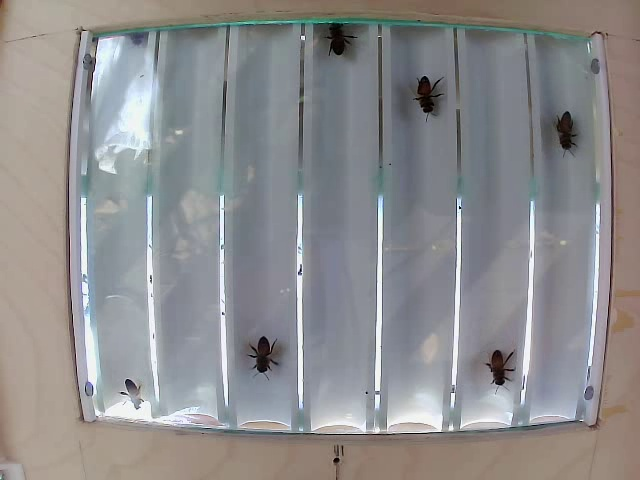bee: (473, 344, 518, 394), (236, 333, 284, 379), (541, 98, 575, 160), (317, 16, 354, 69), (410, 64, 443, 120)
